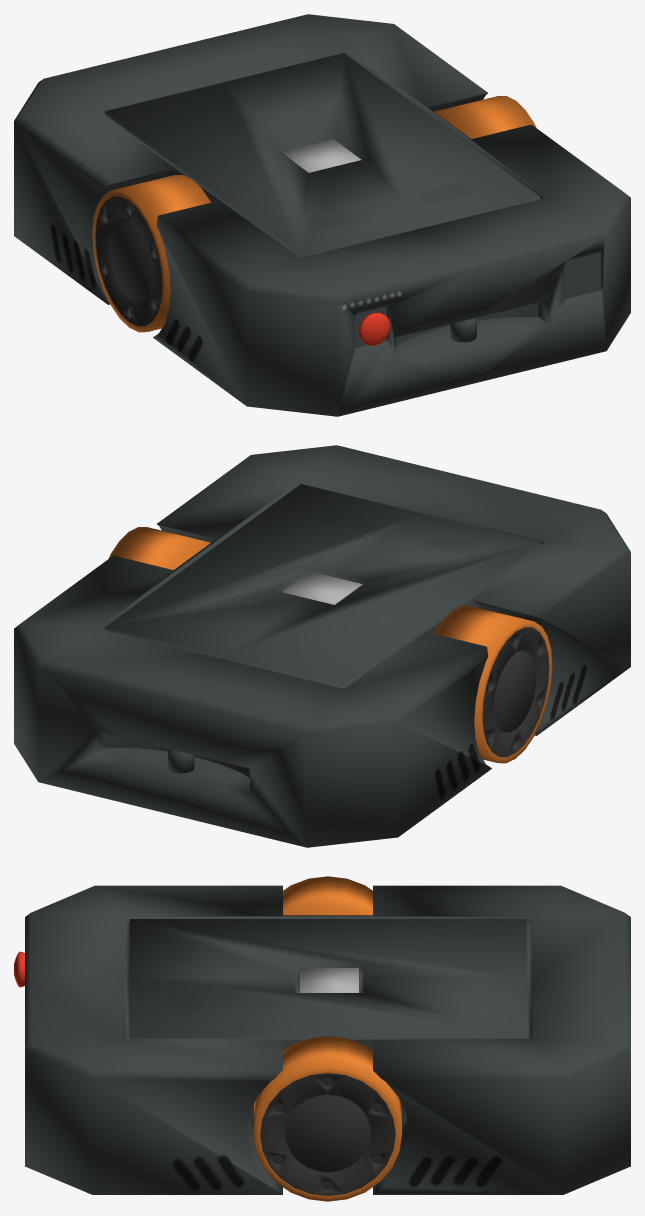
The model's file is transporter.glb.
3 renders of one model, top to bottom at view 1: azimuth 30°, elevation 25°; view 2: azimuth 150°, elevation 25°; view 3: azimuth 270°, elevation 25°, orthographic.
Parts seen in each view (by area): view 1: ЭТО_БАЗА, Колесо; view 2: ЭТО_БАЗА, Колесо; view 3: ЭТО_БАЗА, Колесо.
Boxes of the visible parts, bbox=[...] form: ЭТО_БАЗА: bbox=[14, 14, 630, 416]; Колесо: bbox=[92, 96, 536, 332]; ЭТО_БАЗА: bbox=[14, 445, 630, 847]; Колесо: bbox=[108, 527, 552, 763]; ЭТО_БАЗА: bbox=[14, 885, 630, 1194]; Колесо: bbox=[254, 876, 401, 1201].
Size of the model in its own units: 1.01 by 0.33 by 1.37.
3 materials, 1 textured.
